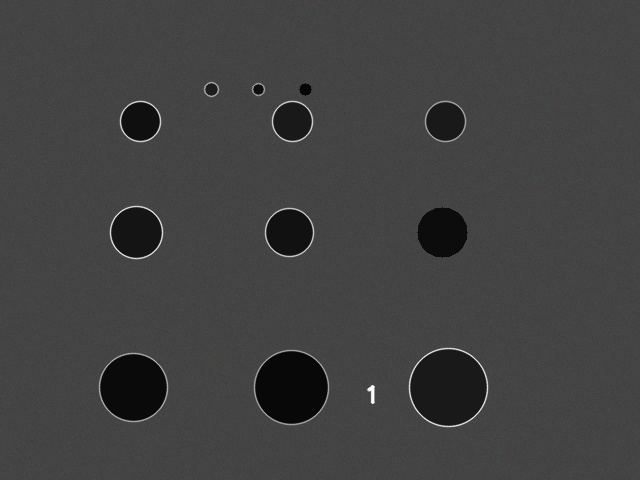hole: (409, 348, 487, 426), (254, 350, 328, 424), (99, 353, 167, 421), (110, 206, 162, 258), (417, 207, 467, 257), (265, 208, 313, 256), (120, 101, 160, 141), (272, 101, 312, 141), (425, 101, 465, 141), (204, 82, 218, 96), (252, 83, 264, 95), (299, 83, 311, 95)
